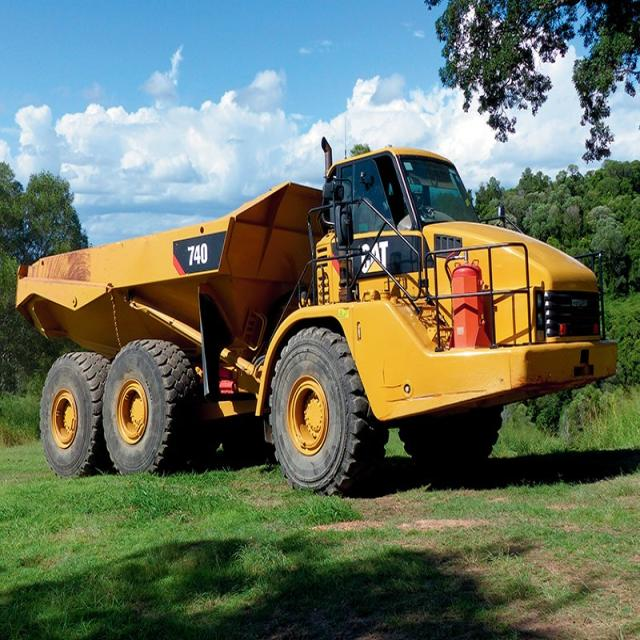dump_truck: (10, 139, 617, 513)
